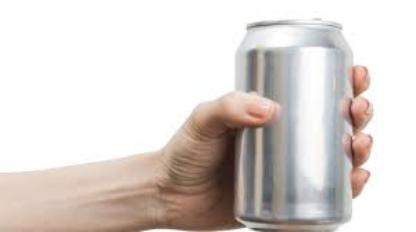Can: (233, 17, 355, 232)
